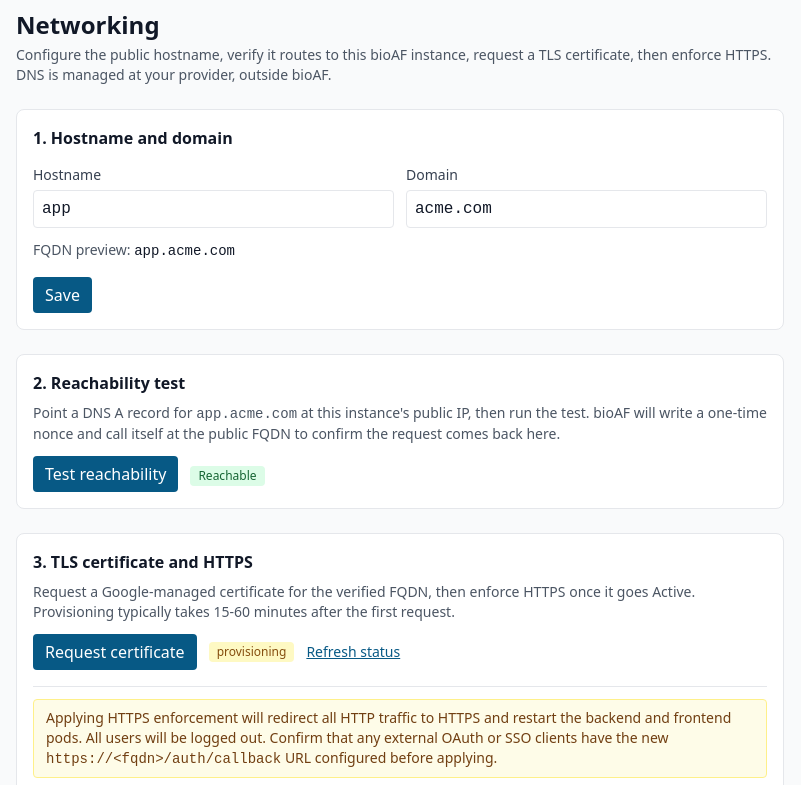
it: Networking Settings Page › polls the cert status when Refresh is clicked and surfaces a last-checked timestamp
The image size is (801, 785).
Click the button with test id "refresh-cert-status-button" at point(353, 652), box [306,642,400,662]
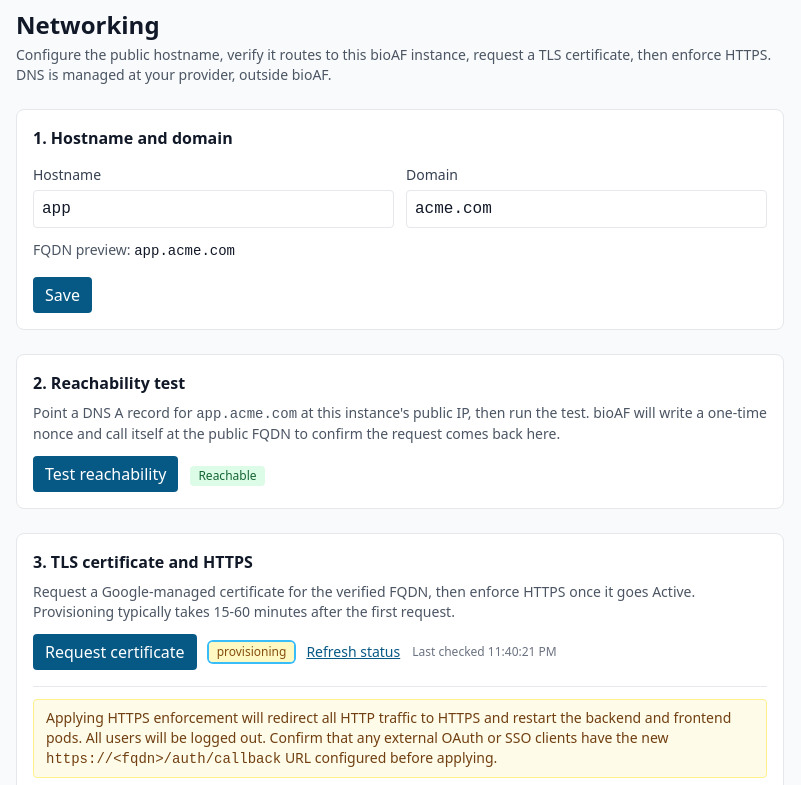
Check: the text "Last checked 11:40:21 PM" is shown, box [412,644,557,660]
